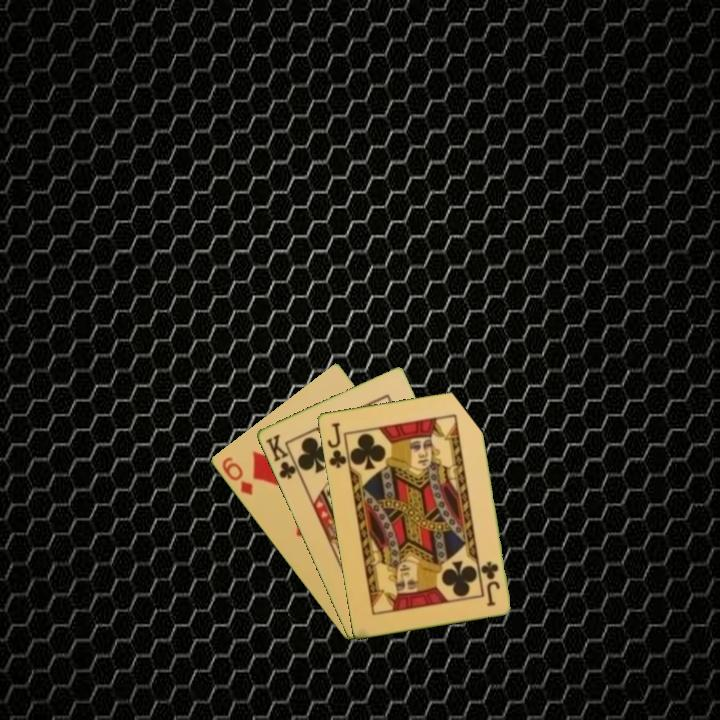6d: (218, 453, 256, 498)
Jc: (323, 419, 351, 472), (478, 558, 502, 609)
Kc: (261, 430, 302, 482)
